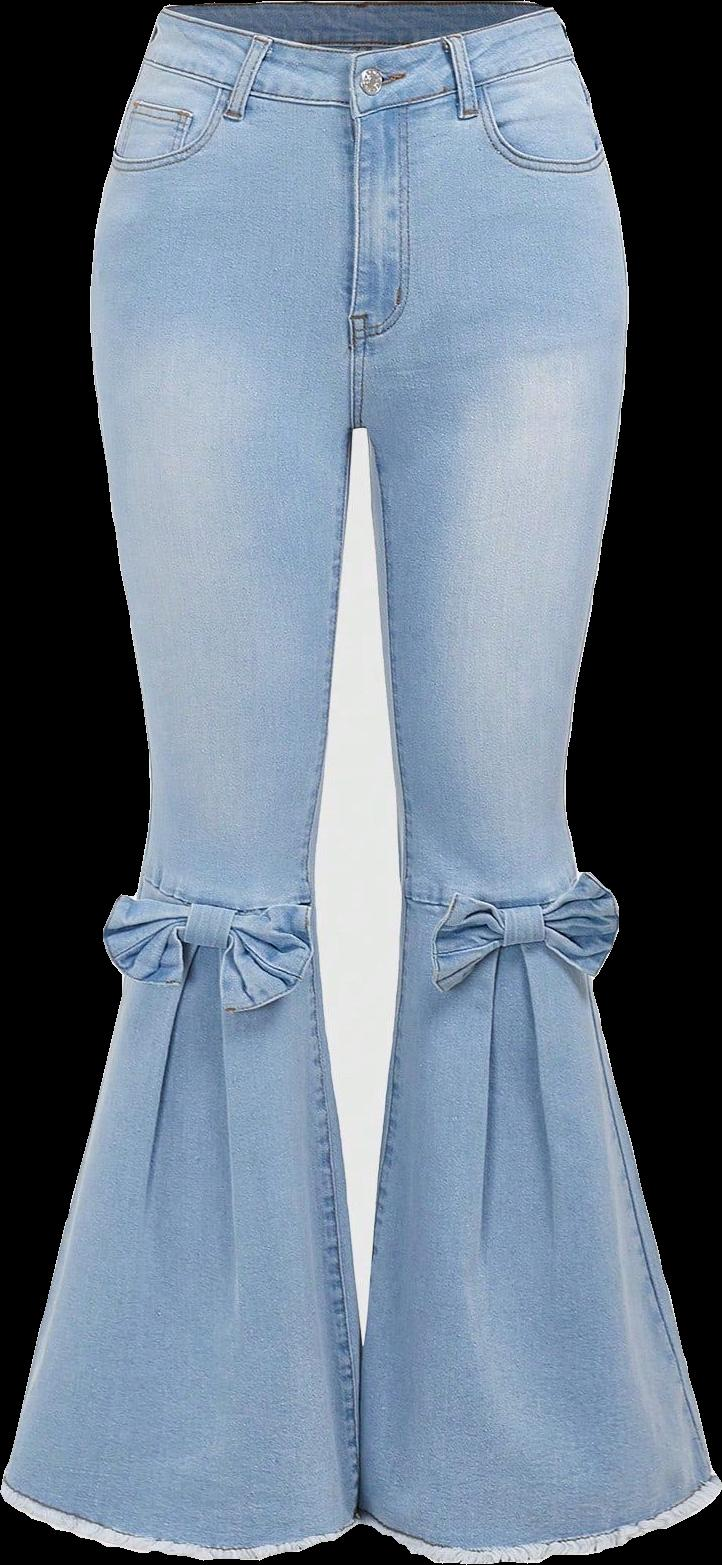Hemline: (352, 1478, 721, 1563), (0, 1478, 366, 1563)
Pantleg: (345, 0, 721, 1560), (1, 4, 363, 1558)
Waistline: (137, 47, 586, 119), (164, 0, 562, 59), (409, 867, 593, 910), (137, 872, 311, 910)
